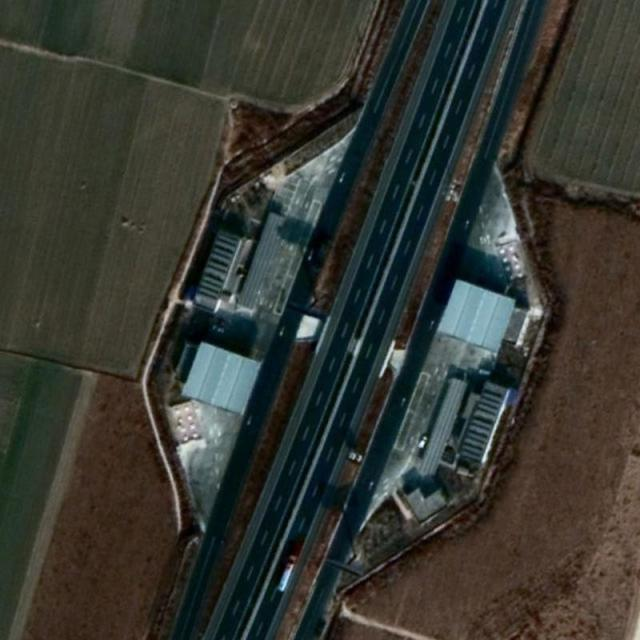vehicle: (276, 555, 297, 590), (417, 435, 428, 447)
